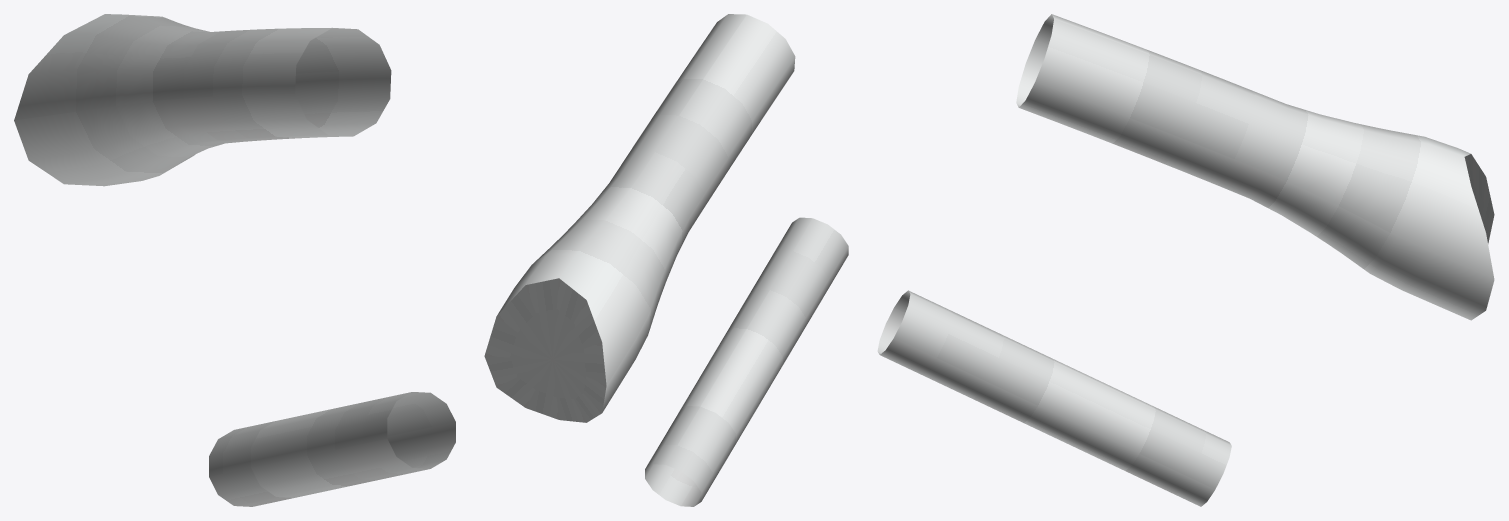
File: luminairearm_truss15ftdouble_c11_thin.obj
The picture shows the model from 3 angles, left to right: view 1: azimuth 30°, elevation 25°; view 2: azimuth 150°, elevation 25°; view 3: azimuth 270°, elevation 25°; orthographic projection. The views are drawn at different scales.
Parts seen in each view (by area): view 1: luminairearm_truss15ftdouble_c11_thin; view 2: luminairearm_truss15ftdouble_c11_thin; view 3: luminairearm_truss15ftdouble_c11_thin.
Part boxes in pixels (<box>): luminairearm_truss15ftdouble_c11_thin: <box>14,14,455,506</box>; luminairearm_truss15ftdouble_c11_thin: <box>484,14,848,506</box>; luminairearm_truss15ftdouble_c11_thin: <box>877,14,1494,506</box>.
Size of the model in its own units: 0.3375 by 1.17 by 1.35.
